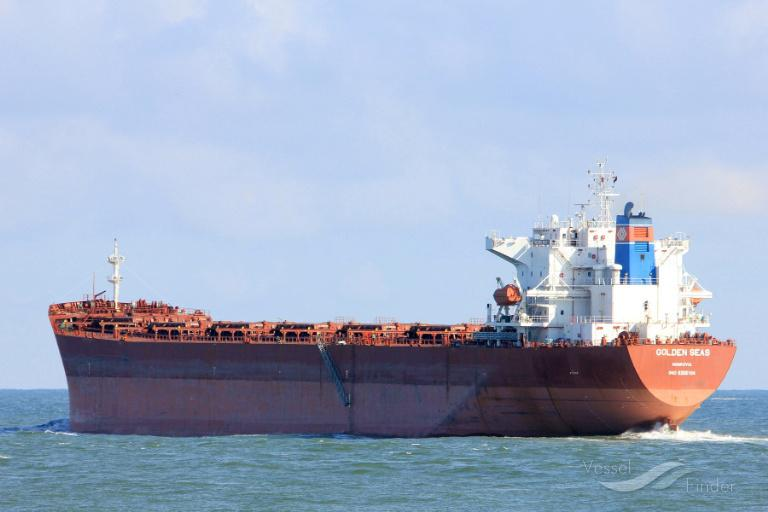OCR: (650, 342, 716, 386)
